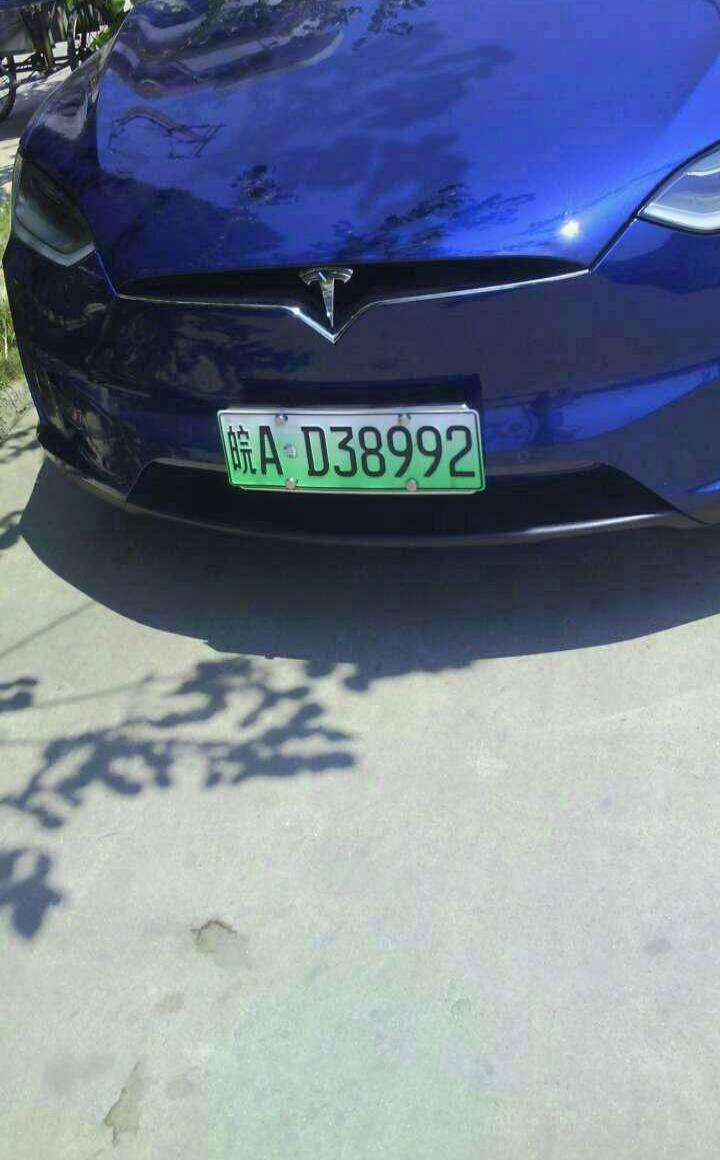car_id: (220, 409, 484, 497)
